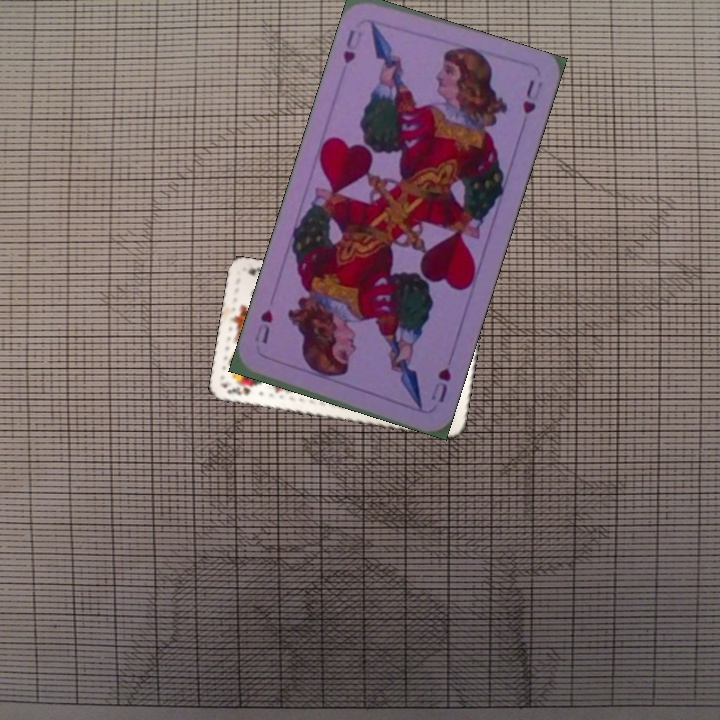HU: (427, 363, 454, 405), (339, 25, 365, 67)
SK: (223, 383, 253, 398)
